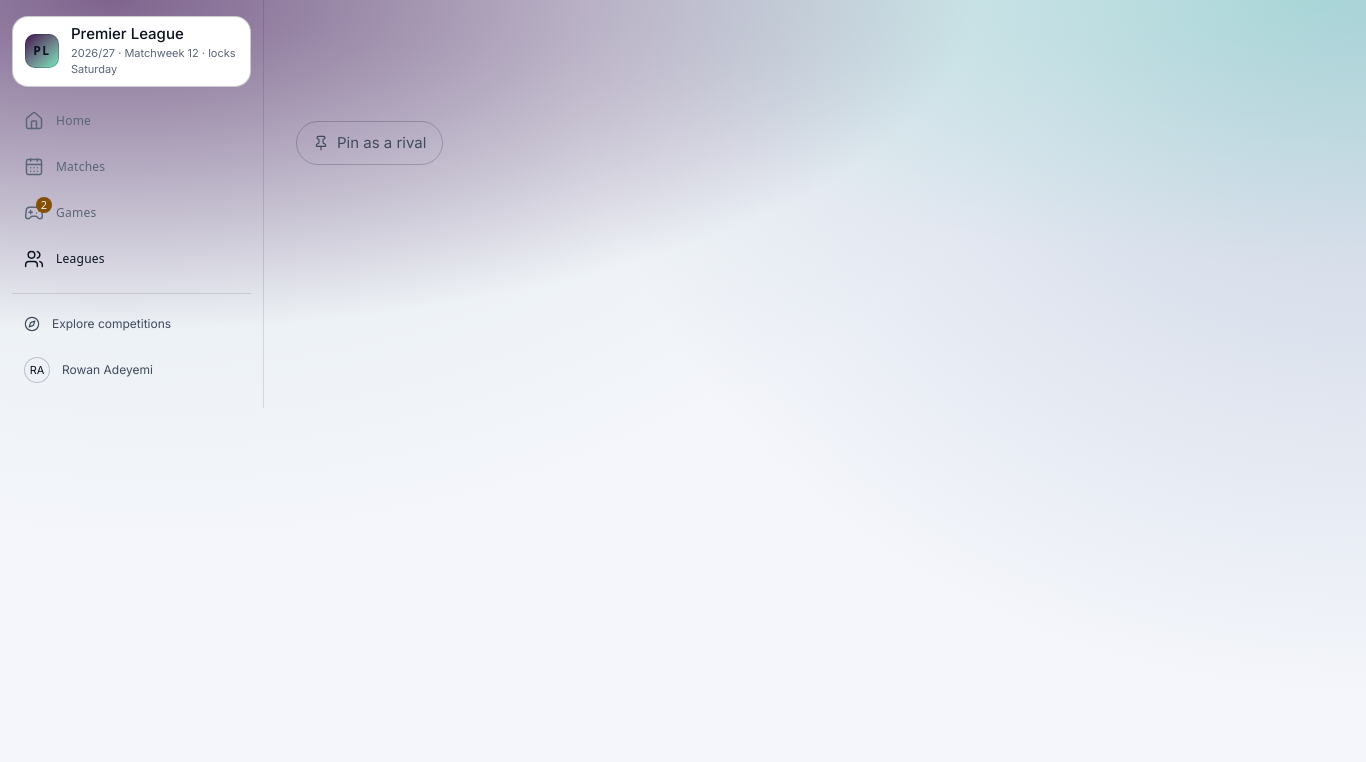
Test: pinning a rival › asks the host to store it, and does not decide the boundary itself
Click the button "Pin as a rival": (370, 143) [296, 121, 443, 165]
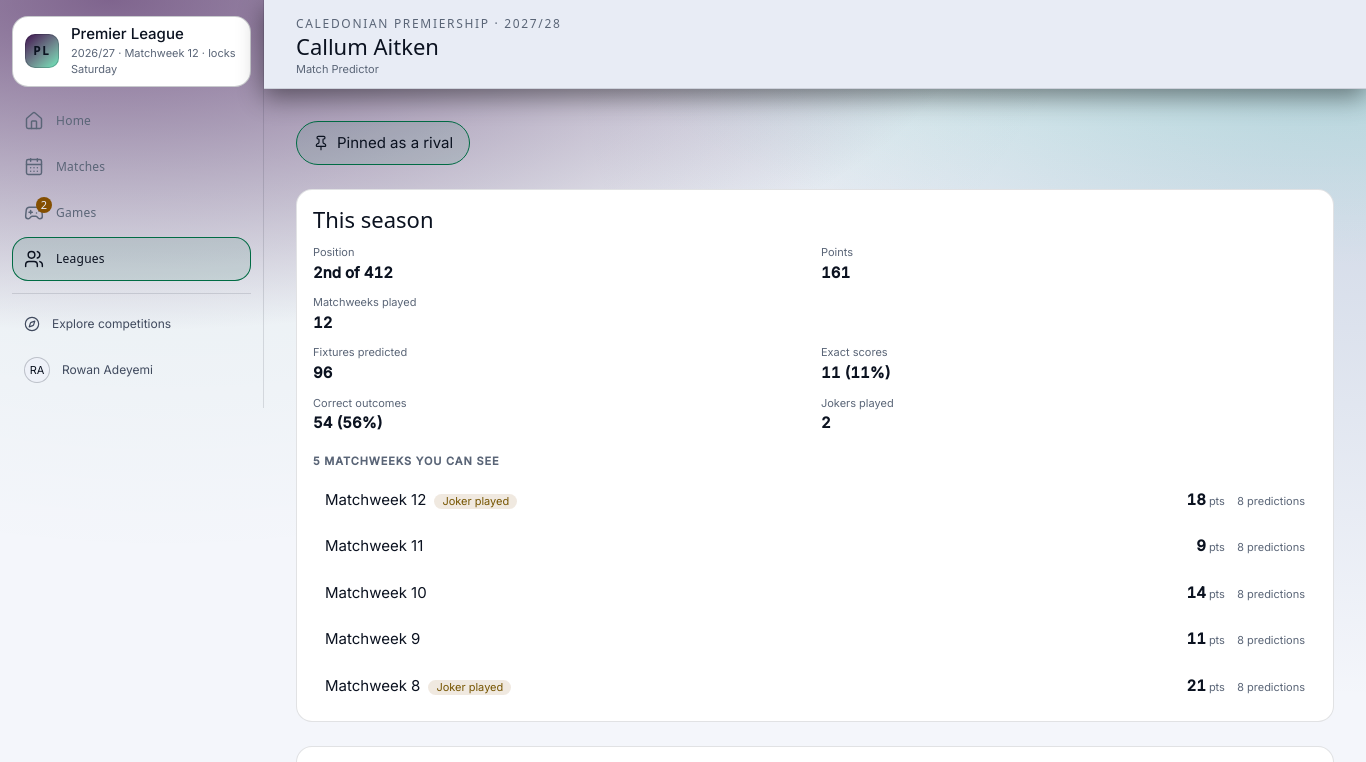
Expected: the button "Pinned as a rival" is shown, [296, 121, 470, 165]
